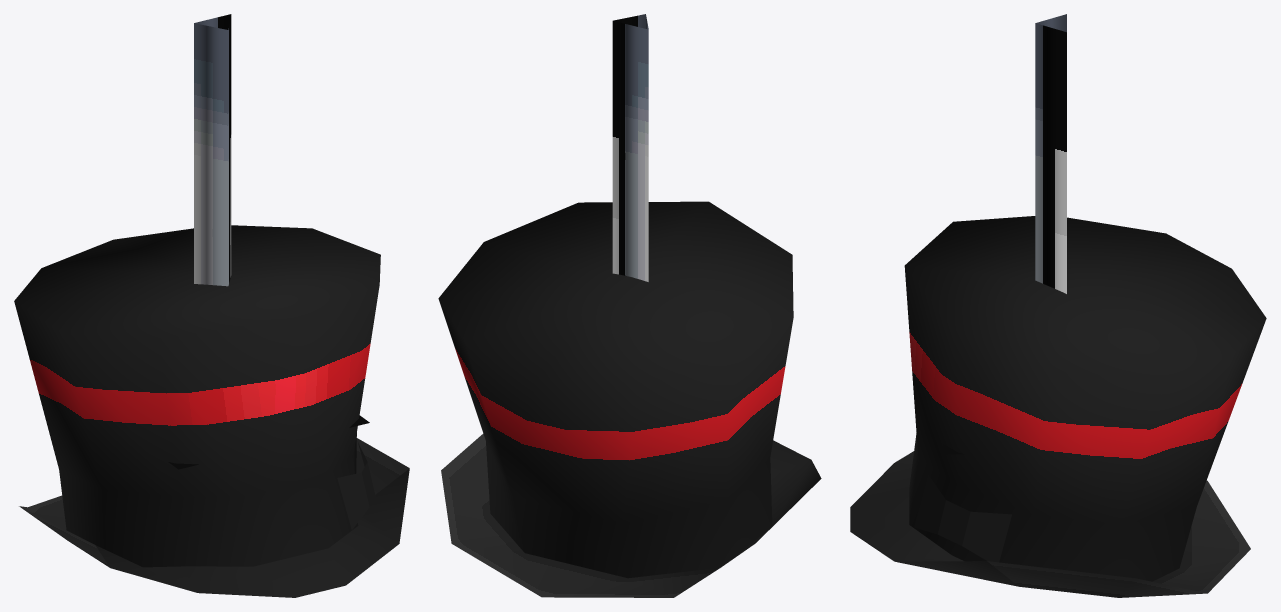
The picture shows the model from 3 angles, left to right: view 1: azimuth 30°, elevation 25°; view 2: azimuth 150°, elevation 25°; view 3: azimuth 270°, elevation 25°; orthographic projection. The views are drawn at different scales.
Parts seen in each view (by area): view 1: 5756head029_c; view 2: 5756head029_c; view 3: 5756head029_c.
Boxes of the visible parts, x1,y1,x2,y2 form: 5756head029_c: (14,14,409,597); 5756head029_c: (438,14,821,597); 5756head029_c: (850,14,1266,597).
Size of the model in its own units: 0.7793 by 1.21 by 0.8662.
2 materials, 2 textured.
